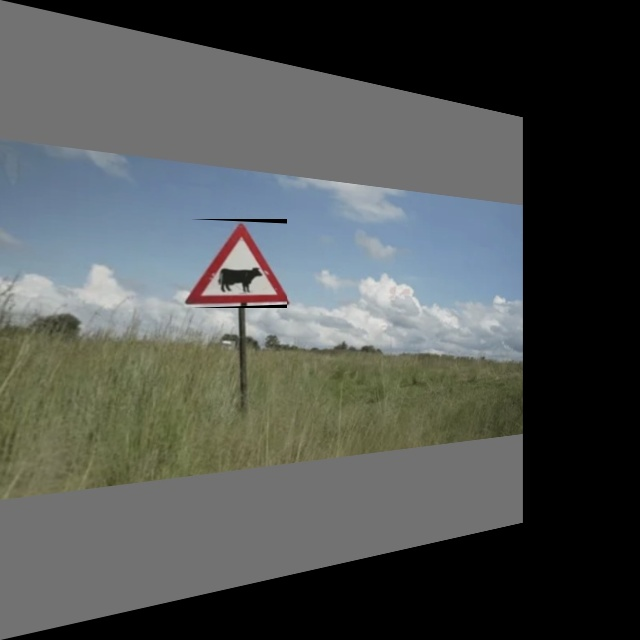Cattle: (190, 219, 287, 308)
